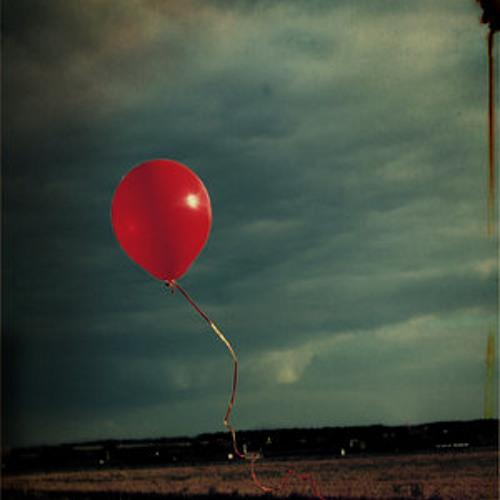red: (105, 155, 224, 297)
